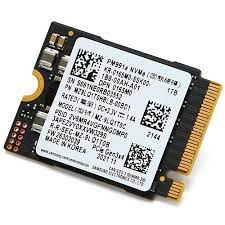ssd2230: (3, 20, 222, 201)
